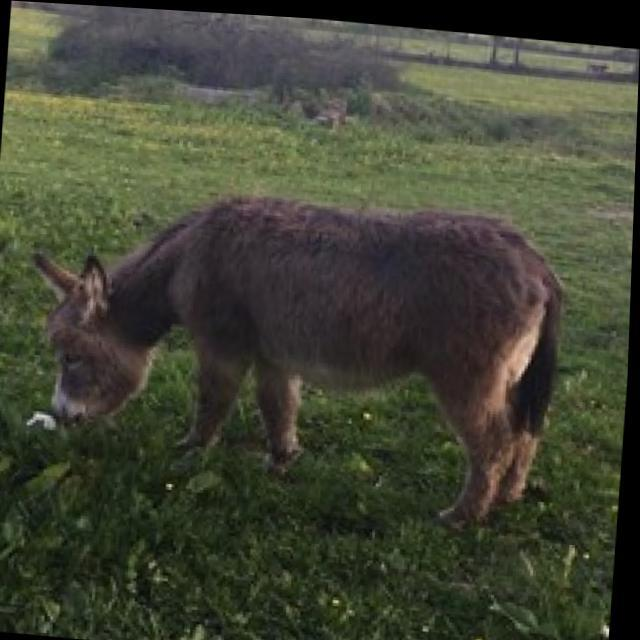Donkey: (17, 166, 572, 530)
